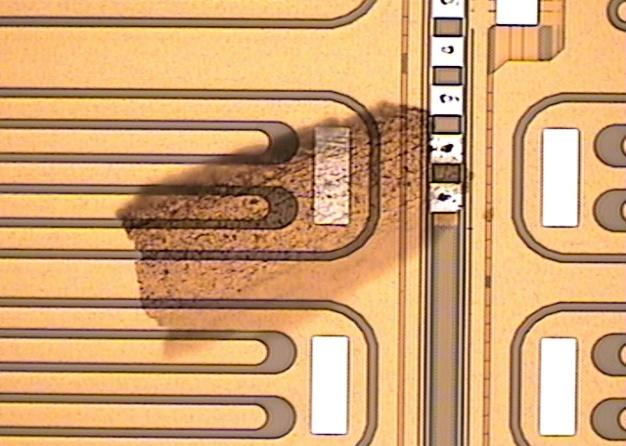PO CONTAMINATION: (109, 95, 499, 378)
